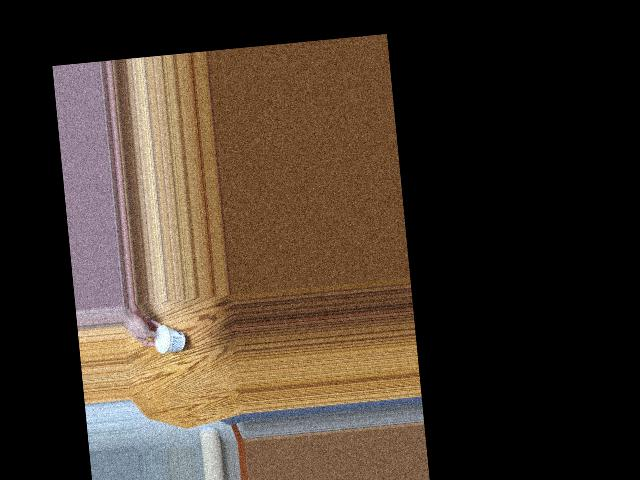cotage: (152, 322, 184, 356)
